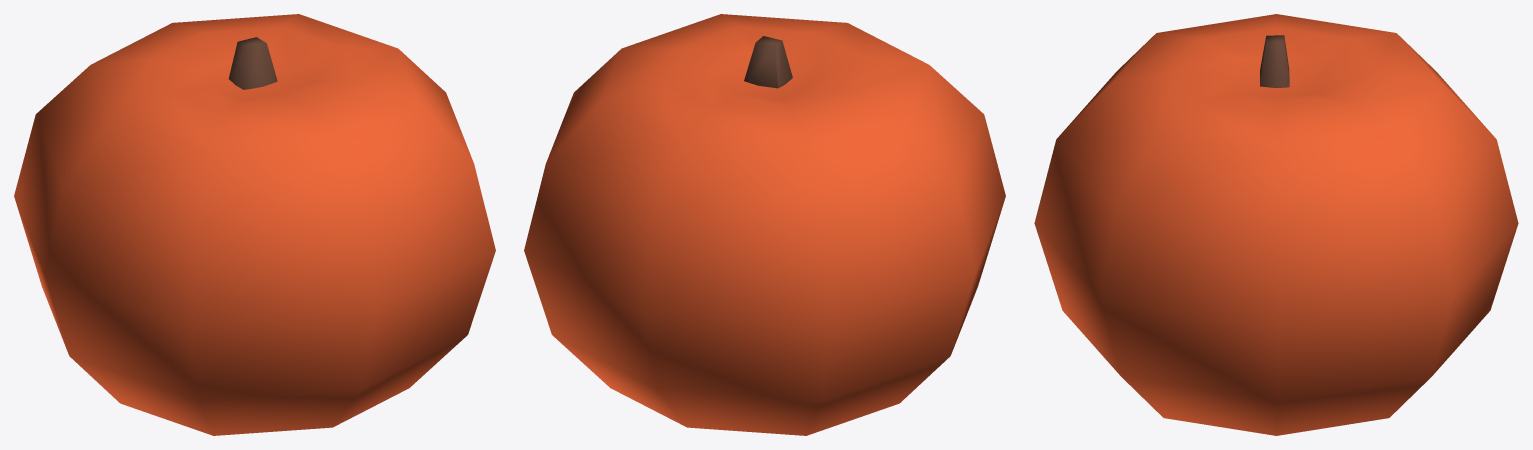
File: green_15.glb
3 views of the same model, side by side, from view 1: azimuth 30°, elevation 25°; view 2: azimuth 150°, elevation 25°; view 3: azimuth 270°, elevation 25° (orthographic).
Parts seen in each view (by area): view 1: green_15; view 2: green_15; view 3: green_15.
Boxes of the visible parts, bbox=[...] form: green_15: bbox=[14, 14, 495, 435]; green_15: bbox=[524, 14, 1005, 435]; green_15: bbox=[1034, 14, 1518, 435].
Bounding box in the file's own units: 0.1663 × 0.129 × 0.1663.
1 material, 1 textured.
